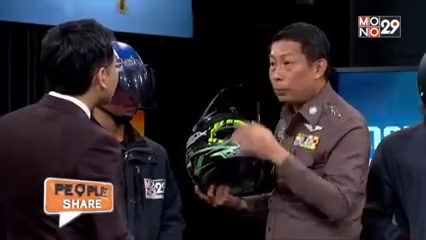helmet: (183, 101, 269, 198), (114, 35, 160, 120)
